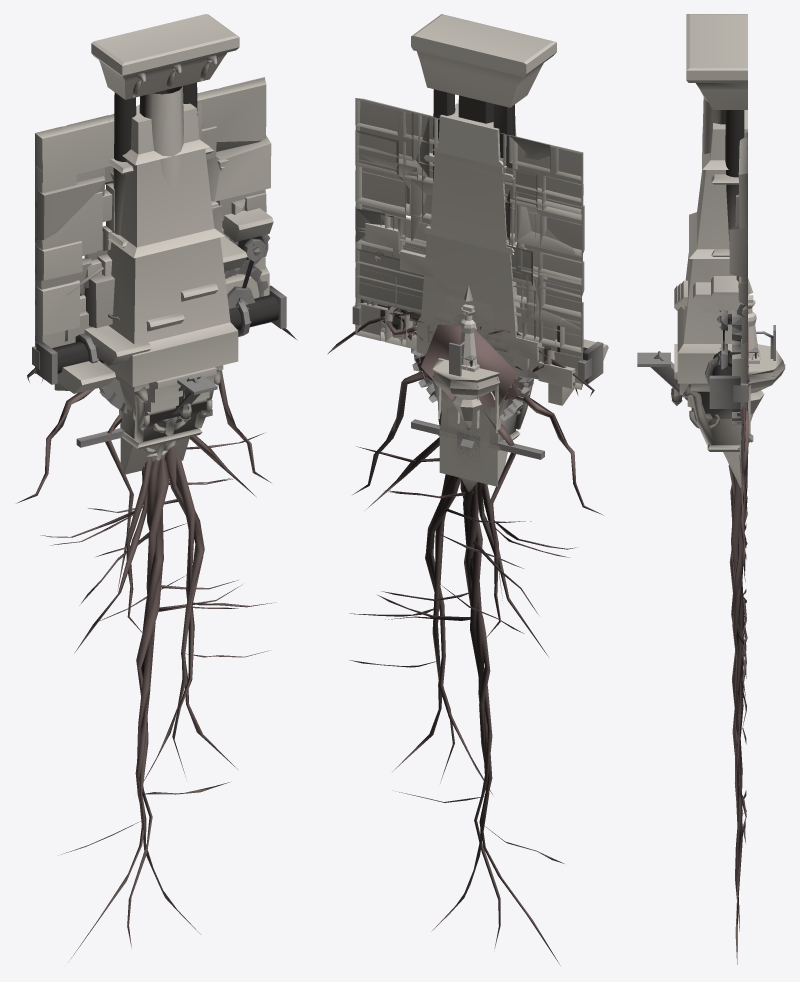
Rendered from ch1_env_kit.glb.
3 views of the same model, side by side, from view 1: azimuth 30°, elevation 25°; view 2: azimuth 150°, elevation 25°; view 3: azimuth 270°, elevation 25° (orthographic).
Visible parts, largest first — view 1: ch1_env_buttress_lo, ch1_env_wall_c, ch1_env_column_cluster, ch1_env_wall_a, ch1_env_root_c, ch1_env_stair_fragment, ch1_env_root_b, ch1_env_corbel_hero, ch1_env_pipe_run, ch1_env_wall_b, ch1_env_capital, ch1_env_geartrain (+3 smaller); view 2: ch1_env_buttress_lo, ch1_env_wall_b, ch1_env_column_cluster, ch1_env_wall_c, ch1_env_wall_a, ch1_env_root_c, ch1_env_growth, ch1_env_root_b, ch1_env_stair_fragment, ch1_env_boss, ch1_env_capital, ch1_env_corbel_hero (+7 smaller); view 3: ch1_env_column_cluster, ch1_env_buttress_lo, ch1_env_root_b, ch1_env_capital, ch1_env_root_c, ch1_env_stair_fragment, ch1_env_pipe_run, ch1_env_boss, ch1_env_wall_a, ch1_env_wall_c, ch1_env_geartrain, ch1_env_growth (+4 smaller).
Part boxes in pixels (x1=…): ch1_env_buttress_lo: x1=103, y1=103, x2=238, y2=386; ch1_env_wall_c: x1=35, y1=103, x2=271, y2=335; ch1_env_column_cluster: x1=91, y1=14, x2=239, y2=247; ch1_env_wall_a: x1=35, y1=78, x2=269, y2=348; ch1_env_root_c: x1=61, y1=456, x2=242, y2=959; ch1_env_stair_fragment: x1=54, y1=208, x2=273, y2=393; ch1_env_root_b: x1=88, y1=433, x2=273, y2=792; ch1_env_corbel_hero: x1=120, y1=367, x2=216, y2=474; ch1_env_pipe_run: x1=32, y1=285, x2=286, y2=384; ch1_env_wall_b: x1=35, y1=77, x2=266, y2=373; ch1_env_capital: x1=115, y1=365, x2=223, y2=449; ch1_env_geartrain: x1=76, y1=234, x2=269, y2=447; ch1_env_buttress_lo: x1=416, y1=103, x2=538, y2=377; ch1_env_wall_b: x1=355, y1=98, x2=583, y2=389; ch1_env_column_cluster: x1=411, y1=14, x2=556, y2=368; ch1_env_wall_c: x1=355, y1=98, x2=584, y2=389; ch1_env_wall_a: x1=355, y1=98, x2=583, y2=388; ch1_env_root_c: x1=378, y1=356, x2=564, y2=965; ch1_env_growth: x1=327, y1=311, x2=603, y2=600; ch1_env_root_b: x1=349, y1=392, x2=531, y2=794; ch1_env_stair_fragment: x1=365, y1=217, x2=608, y2=405; ch1_env_boss: x1=432, y1=360, x2=500, y2=430; ch1_env_capital: x1=425, y1=355, x2=532, y2=450; ch1_env_corbel_hero: x1=439, y1=390, x2=520, y2=486; ch1_env_column_cluster: x1=686, y1=14, x2=747, y2=256; ch1_env_buttress_lo: x1=677, y1=110, x2=747, y2=383; ch1_env_root_b: x1=728, y1=465, x2=747, y2=828; ch1_env_capital: x1=683, y1=383, x2=741, y2=451; ch1_env_root_c: x1=729, y1=484, x2=747, y2=964; ch1_env_stair_fragment: x1=674, y1=276, x2=743, y2=312; ch1_env_pipe_run: x1=705, y1=350, x2=747, y2=408; ch1_env_boss: x1=748, y1=344, x2=785, y2=421; ch1_env_wall_a: x1=732, y1=137, x2=747, y2=410; ch1_env_wall_c: x1=729, y1=132, x2=747, y2=317; ch1_env_geartrain: x1=717, y1=310, x2=747, y2=464; ch1_env_growth: x1=739, y1=295, x2=749, y2=581.
Size of the model in its own units: 4.84 by 14.89 by 2.21.
